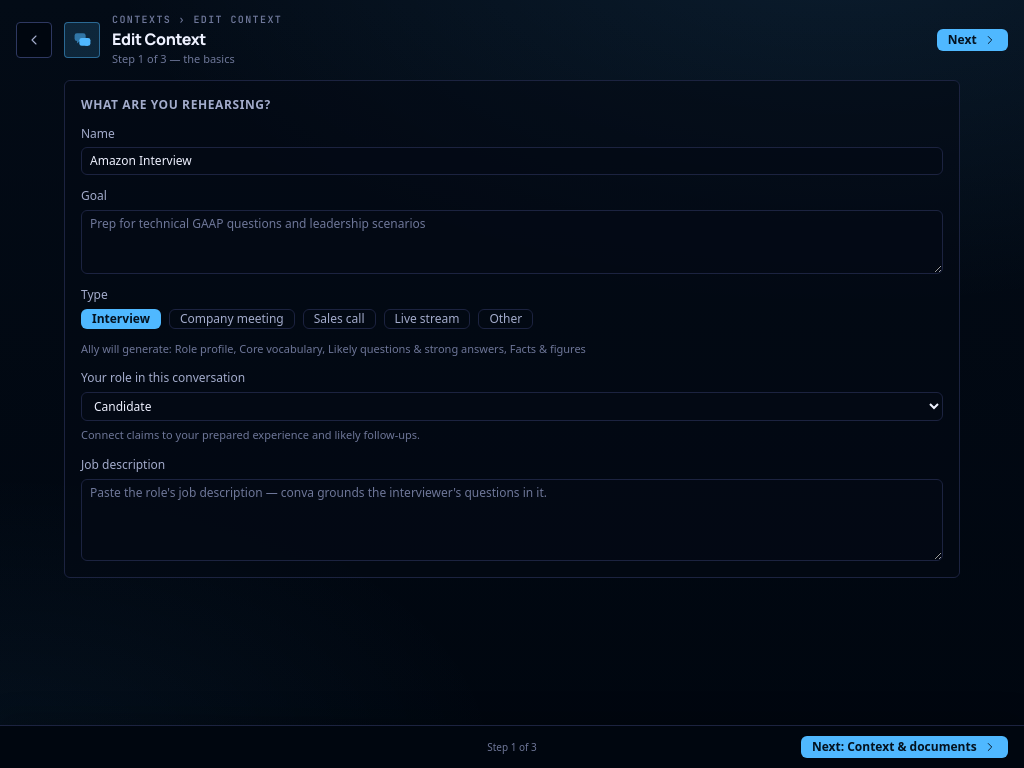
Scenario: ContextSetup wizard › warns that the active provider's key is missing before Generate is ever clicked
Expected: the field showing "Amazon Interview" is shown, [81,147,943,175]
Click the button "Next: Context & documents". click: (904, 747)
box: [801,736,1008,758]
(page scrolled)
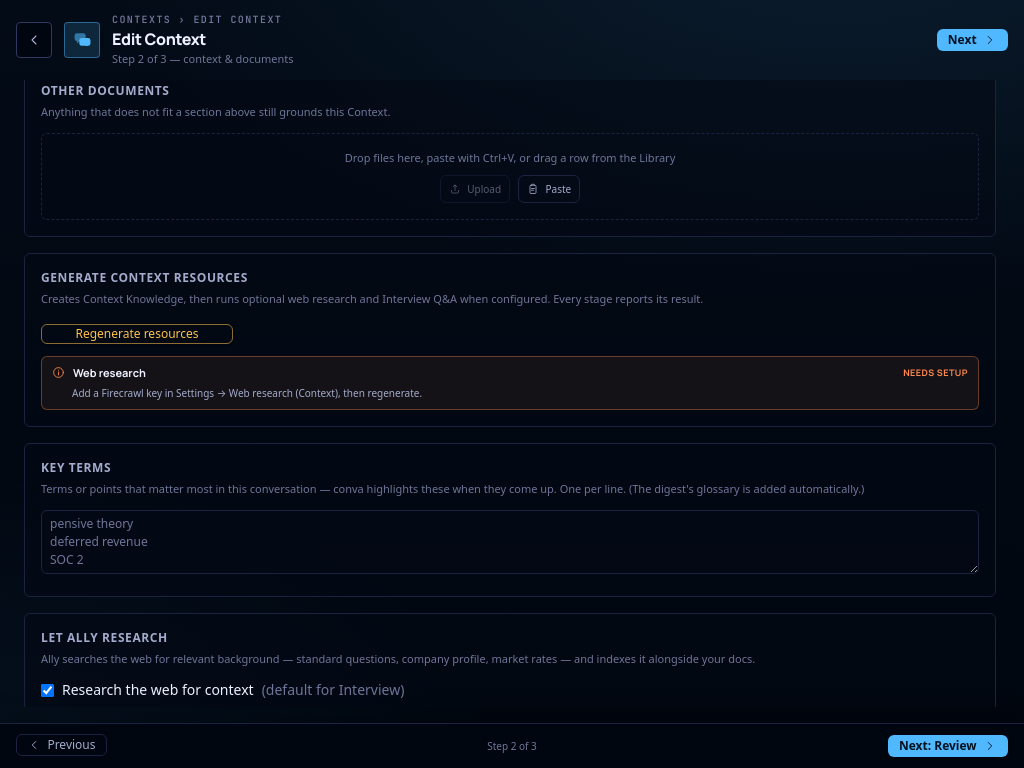
Expected: the text "Add a Firecrawl key in Settings → Web research (Context)" is shown, [72,386,422,400]
